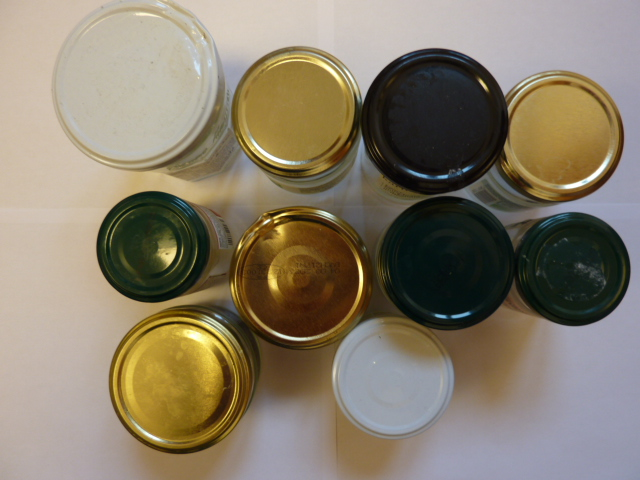damaged: (53, 3, 226, 171)
intact: (378, 197, 517, 329), (496, 69, 624, 204), (333, 316, 454, 442), (518, 214, 630, 329)
